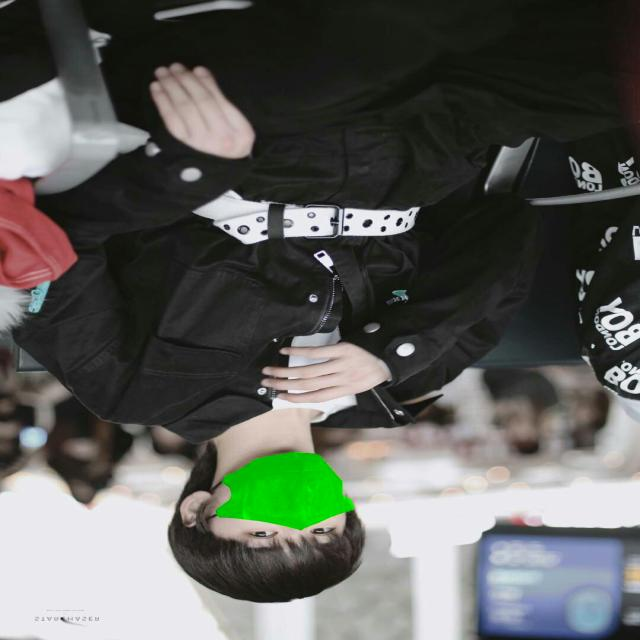mask: (192, 447, 369, 535)
